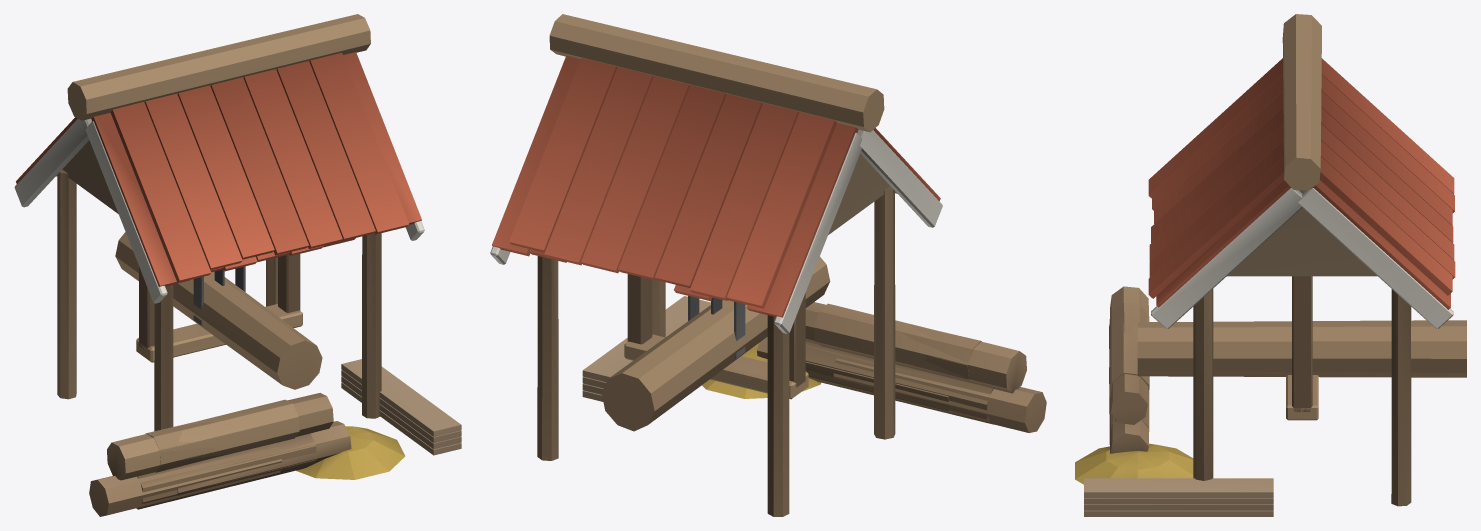
The model's file is bld_lesopilka_e1.glb.
3 views of the same model, side by side, from view 1: azimuth 30°, elevation 25°; view 2: azimuth 150°, elevation 25°; view 3: azimuth 270°, elevation 25° (orthographic). The views are drawn at different scales.
Parts seen in each view (by area): view 1: lesopilka; view 2: lesopilka; view 3: lesopilka.
Part boxes in pixels (<box>): lesopilka: <box>14,14,461,516</box>; lesopilka: <box>490,14,1046,516</box>; lesopilka: <box>1075,14,1466,516</box>.
Size of the model in its own units: 1 by 0.9776 by 0.9522.
